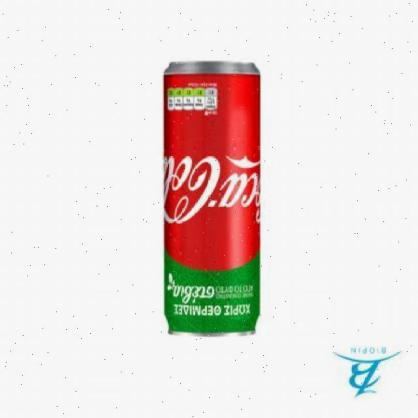can: (163, 61, 264, 338)
